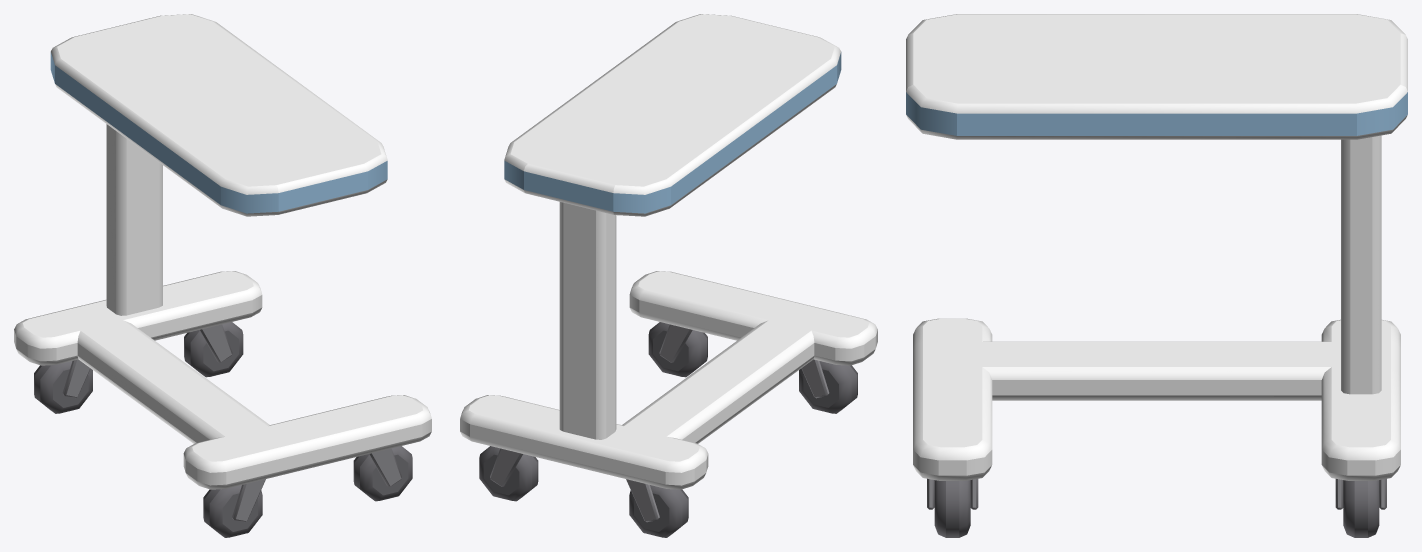
Rendered from Table.fbx.
3 views of the same model, side by side, from view 1: azimuth 30°, elevation 25°; view 2: azimuth 150°, elevation 25°; view 3: azimuth 270°, elevation 25° (orthographic). The views are drawn at different scales.
Parts seen in each view (by area): view 1: Table; view 2: Table; view 3: Table.
Boxes of the visible parts, bbox=[...] form: Table: bbox=[14, 14, 431, 537]; Table: bbox=[460, 14, 877, 537]; Table: bbox=[906, 14, 1407, 537].
Bounding box in the file's own units: 0.5724 × 0.8316 × 0.8877.
